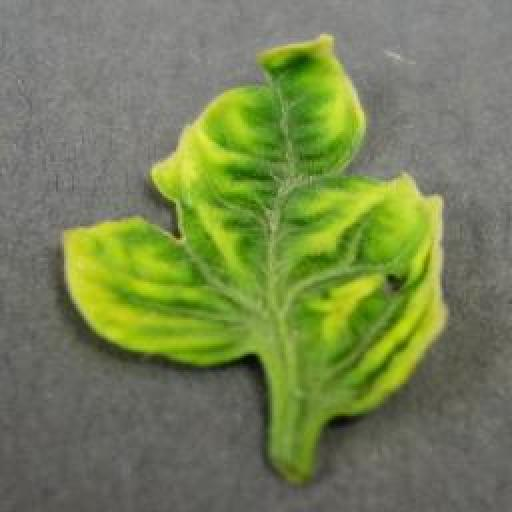Yellow Leaf Curl Virus: (59, 32, 448, 419)
